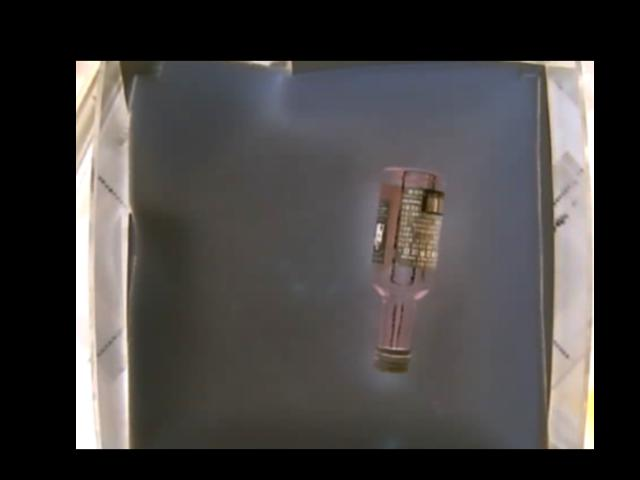Bottle: (368, 165, 445, 373)
